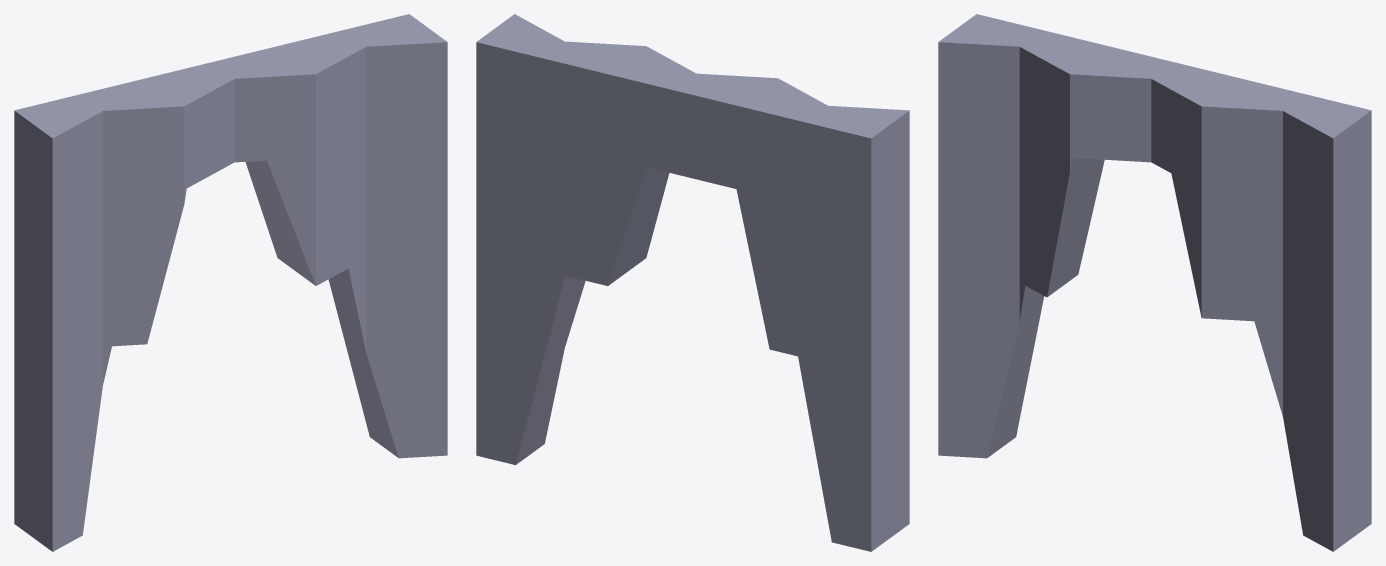
The model's file is kenney_nature-kit__cliff_cave_rock.fbx.
3 renders of one model, left to right at view 1: azimuth 30°, elevation 25°; view 2: azimuth 150°, elevation 25°; view 3: azimuth 330°, elevation 25°, orthographic.
Visible parts, largest first — view 1: kenney_nature-kit__cliff_cave_rock__cave_stone; view 2: kenney_nature-kit__cliff_cave_rock__cave_stone; view 3: kenney_nature-kit__cliff_cave_rock__cave_stone.
Boxes of the visible parts, x1=… form: kenney_nature-kit__cliff_cave_rock__cave_stone: x1=14, y1=14, x2=447, y2=551; kenney_nature-kit__cliff_cave_rock__cave_stone: x1=476, y1=14, x2=909, y2=551; kenney_nature-kit__cliff_cave_rock__cave_stone: x1=938, y1=14, x2=1371, y2=551.
Bounding box in the file's own units: 3.57 × 3.57 × 0.6018.
